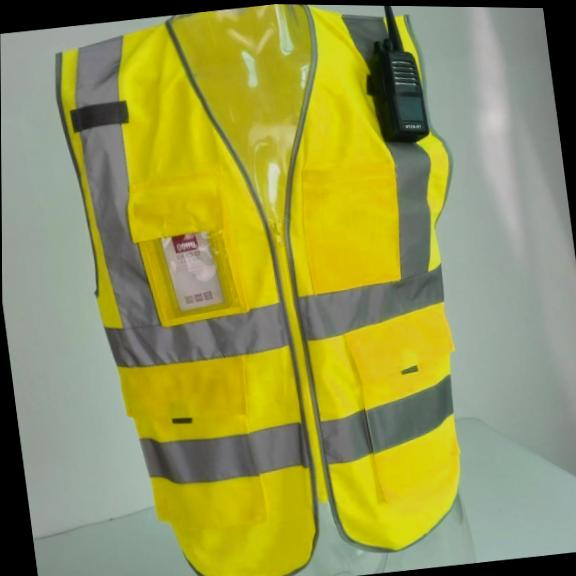safety_vest: (44, 1, 503, 576)
